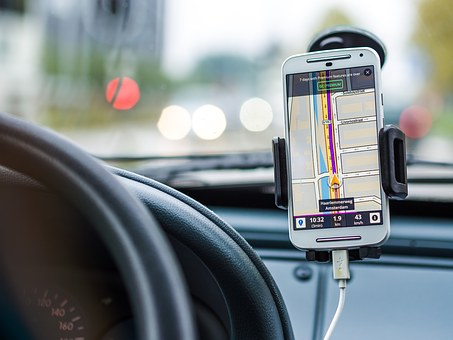mobile: (277, 50, 398, 253)
